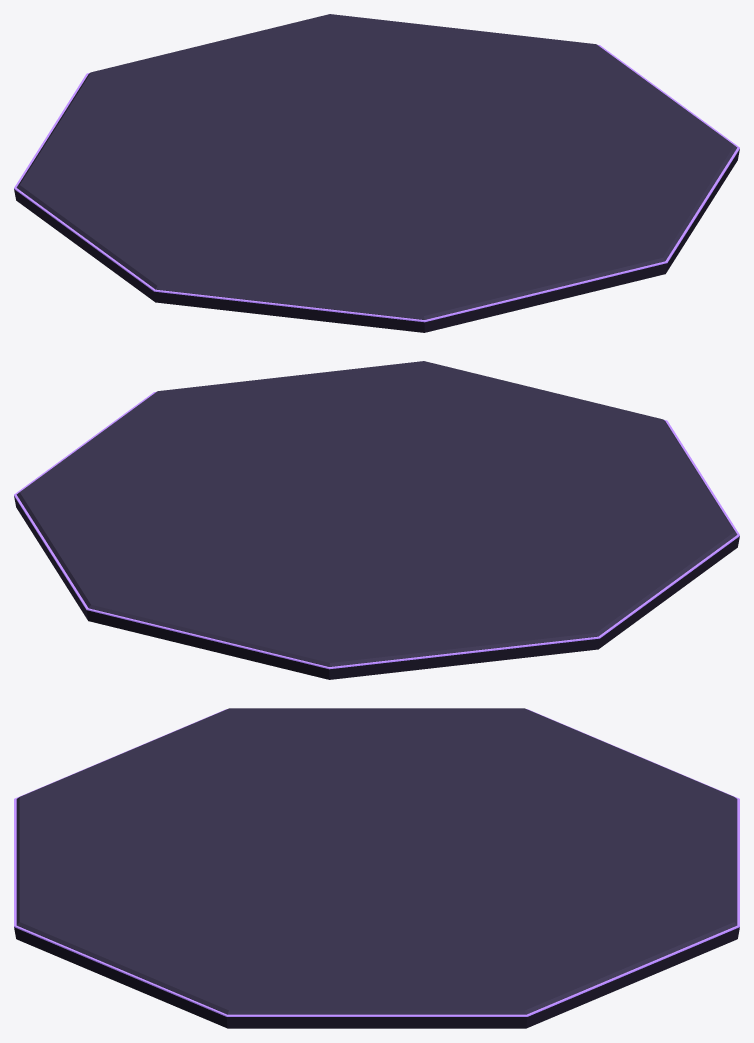
File: end_stage.glb
3 renders of one model, top to bottom at view 1: azimuth 30°, elevation 25°; view 2: azimuth 150°, elevation 25°; view 3: azimuth 270°, elevation 25°, orthographic. The views are drawn at different scales.
Parts seen in each view (by area): view 1: Top, Underside, Edge; view 2: Top, Underside, Edge; view 3: Top, Underside, Edge.
Boxes of the visible parts, x1,y1,x2,y2 form: Top: [16, 14, 737, 319]; Underside: [14, 149, 739, 332]; Edge: [14, 44, 739, 322]; Top: [16, 361, 737, 666]; Underside: [14, 496, 739, 679]; Edge: [14, 391, 739, 669]; Top: [16, 708, 737, 1014]; Underside: [14, 927, 739, 1028]; Edge: [14, 709, 739, 1016].
Size of the model in its own units: 16.66 by 3.05 by 16.66.
